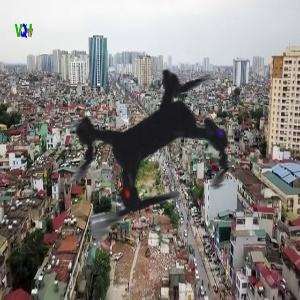drone: (9, 8, 300, 300)
